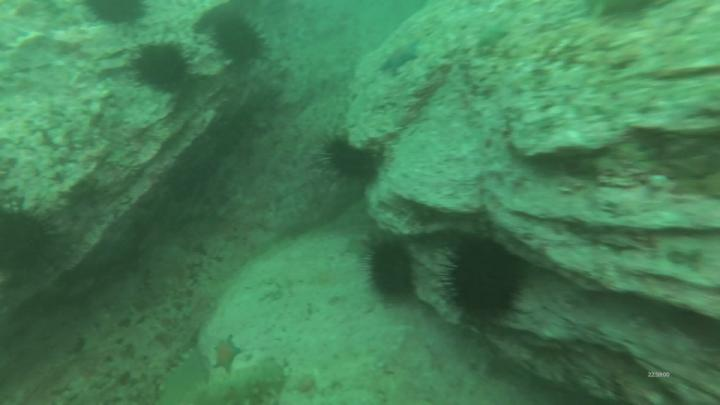echinus: (446, 238, 526, 317), (1, 209, 52, 275), (370, 241, 420, 298), (211, 18, 263, 67), (135, 43, 186, 91), (326, 138, 377, 184), (89, 1, 141, 31)
starfish: (382, 45, 422, 78), (473, 23, 512, 50), (212, 335, 238, 371)
